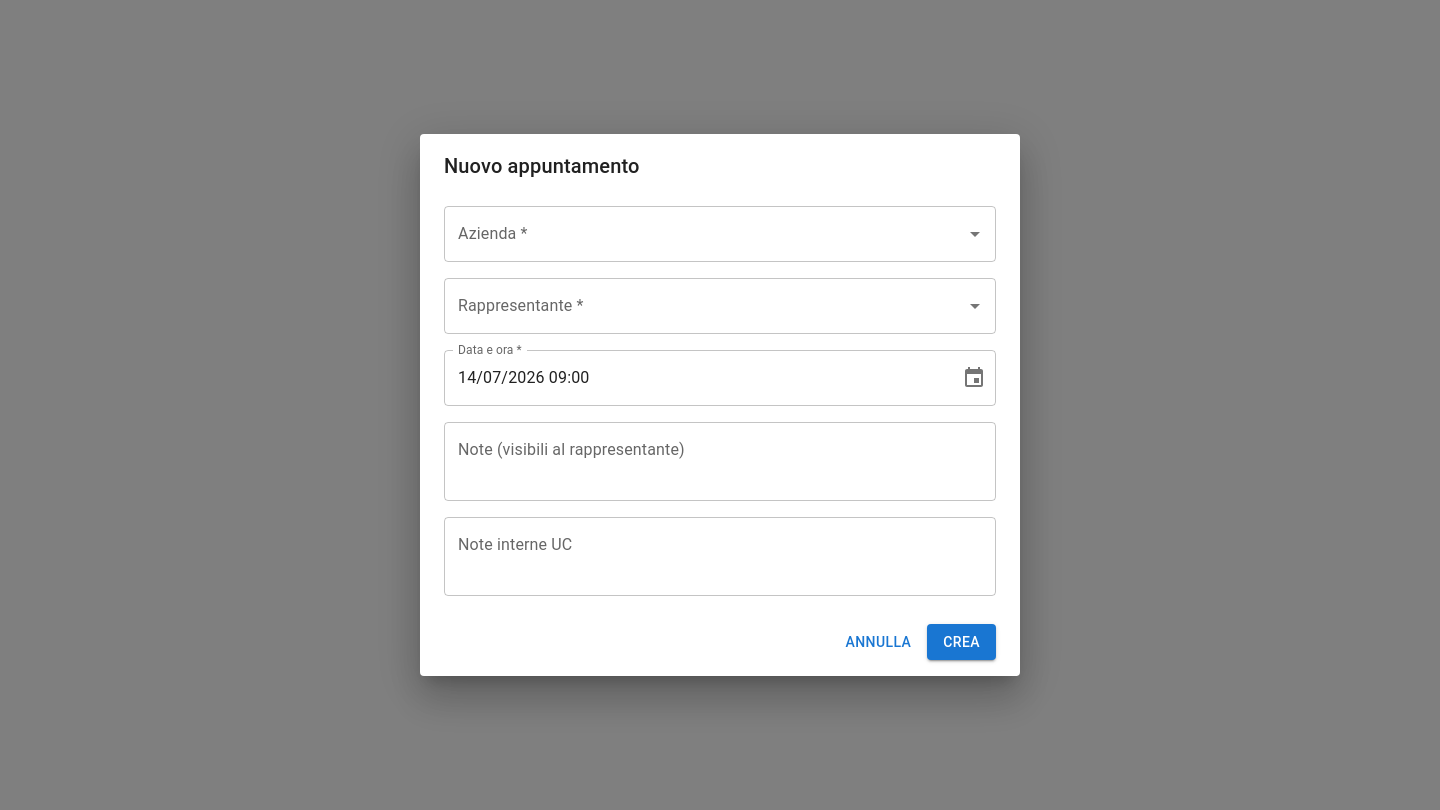
Test case: AppointmentForm › shows validation errors when required fields are missing
Click the button "Crea" at (962, 642), box [927,624,996,660]
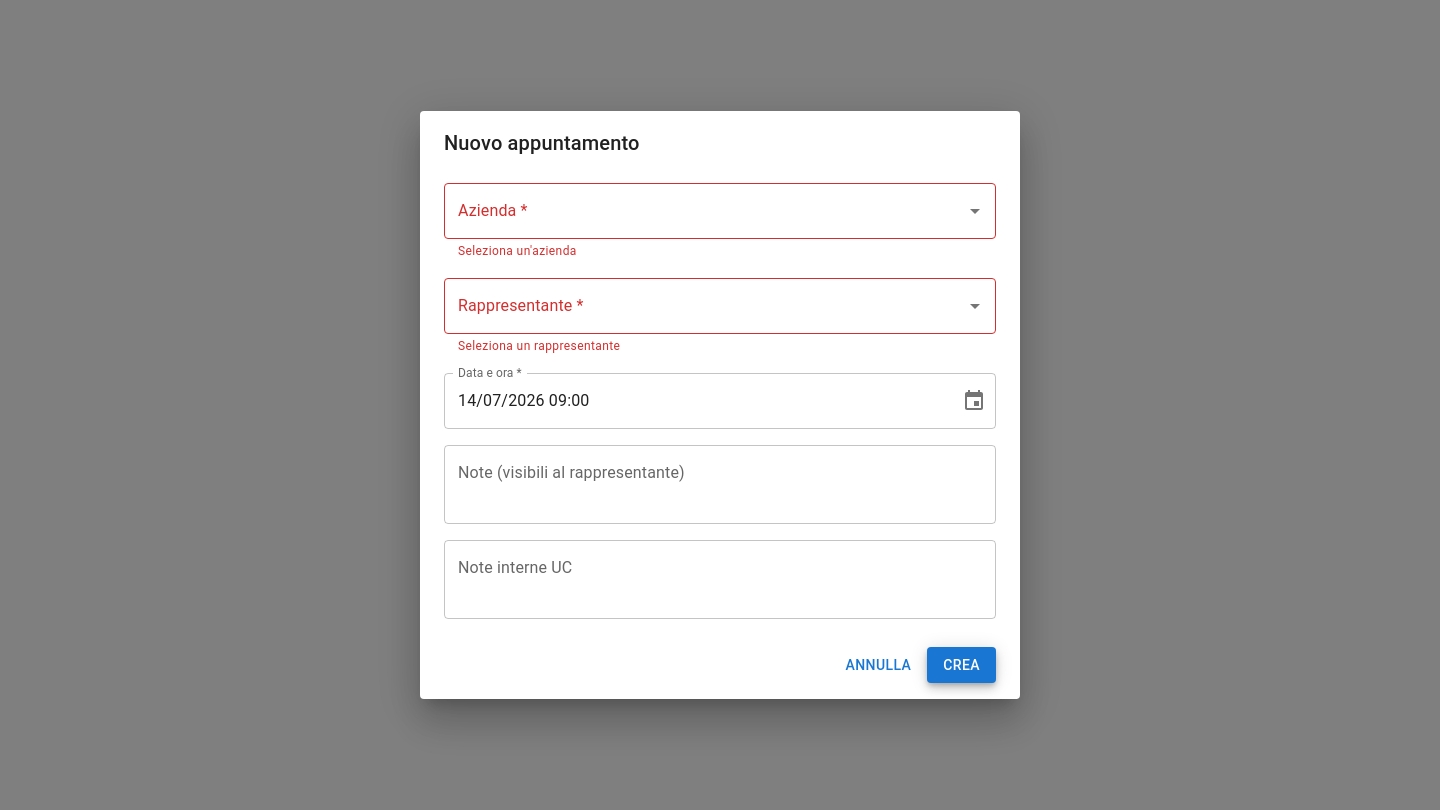
Result: the text "Seleziona un'azienda" is shown at [458,244,577,258]
Result: the text "Seleziona un rappresentante" is shown at [458,339,620,353]
